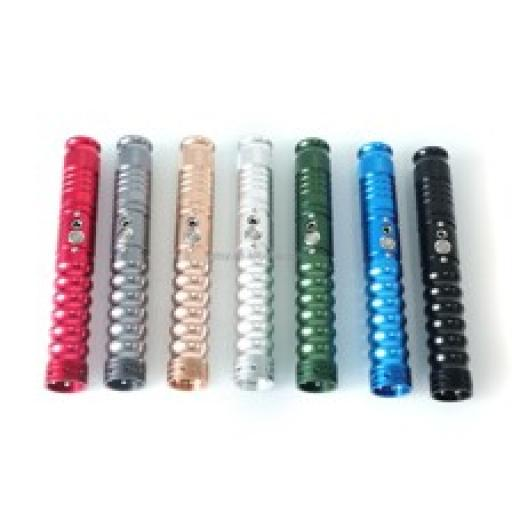lightsaber: (414, 145, 472, 401), (46, 135, 101, 393), (358, 140, 412, 398), (168, 134, 216, 392), (106, 135, 153, 396), (295, 136, 338, 393), (235, 135, 275, 391)
